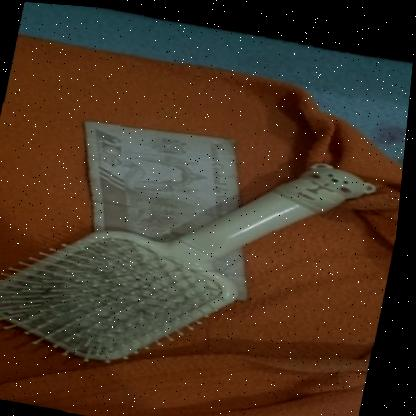five-back-vef: (58, 109, 281, 298)
